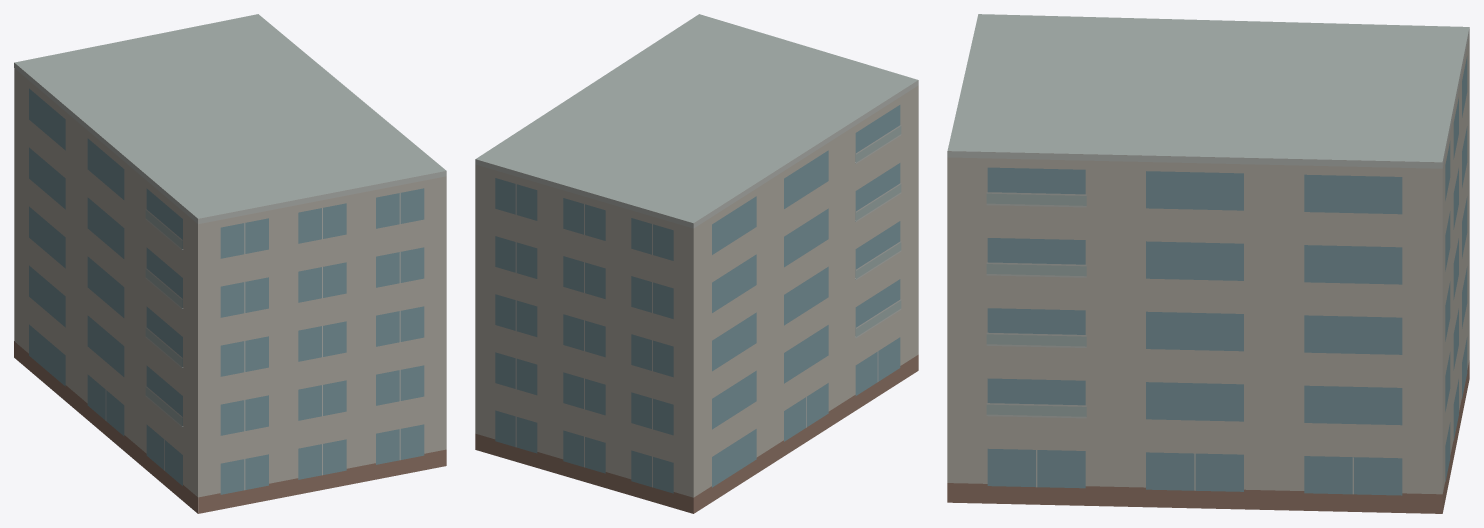
File: survey-upis-32953773.glb
The picture shows the model from 3 angles, left to right: view 1: azimuth 30°, elevation 25°; view 2: azimuth 150°, elevation 25°; view 3: azimuth 270°, elevation 25°; orthographic projection. The views are drawn at different scales.
Visible parts, largest first — view 1: survey-upis-32953773.tmp; view 2: survey-upis-32953773.tmp; view 3: survey-upis-32953773.tmp.
Boxes of the visible parts, bbox=[...] form: survey-upis-32953773.tmp: bbox=[14, 14, 446, 513]; survey-upis-32953773.tmp: bbox=[475, 14, 918, 513]; survey-upis-32953773.tmp: bbox=[947, 14, 1469, 513].
Size of the model in its own units: 12.04 by 13.3 by 17.91.
